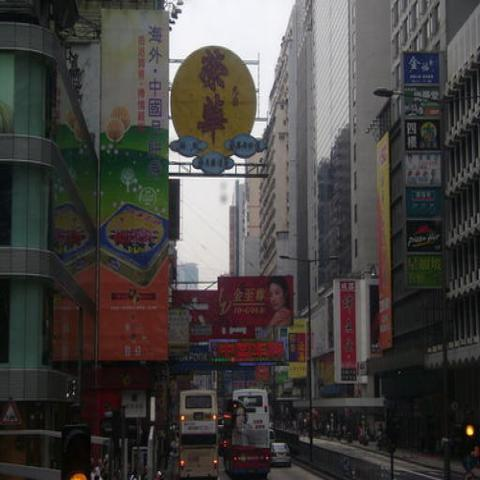bus: (229, 389, 272, 476), (179, 390, 218, 478)
car: (270, 442, 291, 467)
